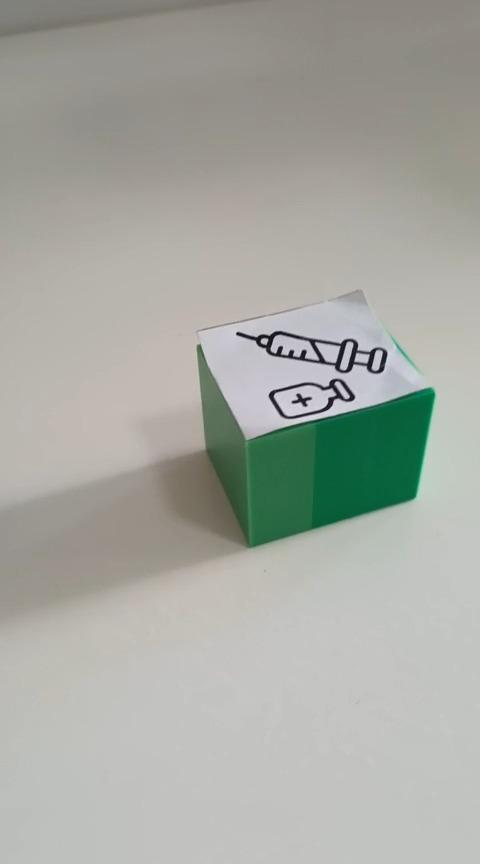antiseptic cream: (194, 287, 436, 548)
